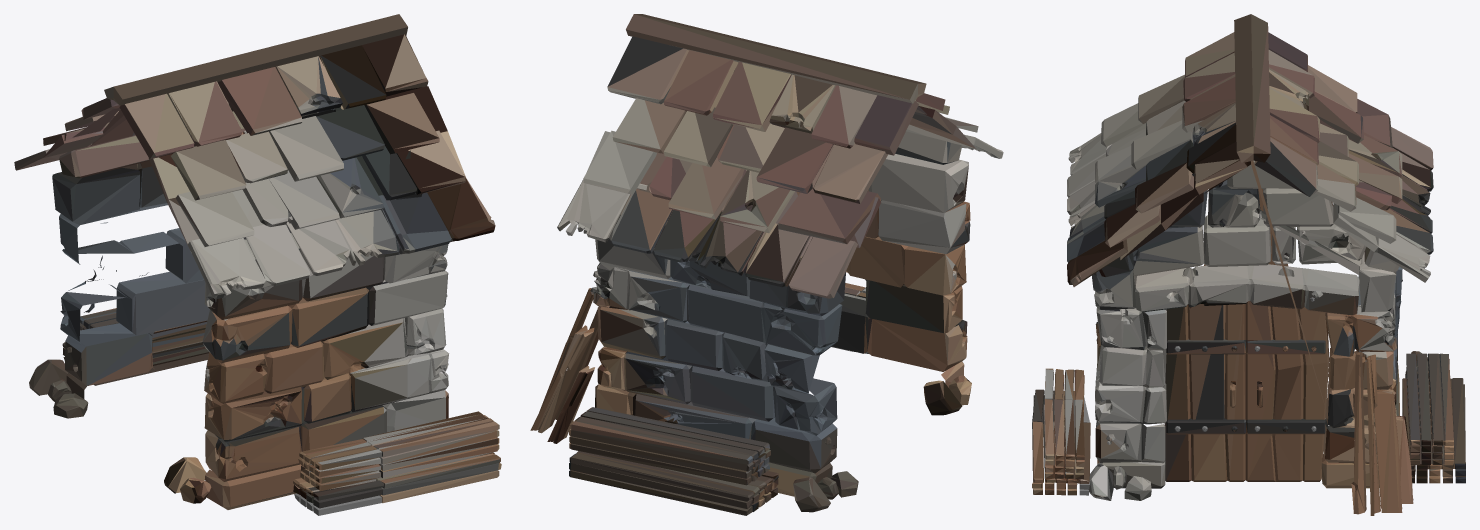
File: Storehouse.glb
3 views of the same model, side by side, from view 1: azimuth 30°, elevation 25°; view 2: azimuth 150°, elevation 25°; view 3: azimuth 270°, elevation 25° (orthographic). The views are drawn at different scales.
Visible parts, largest first — view 1: world; view 2: world; view 3: world.
Part boxes in pixels (<box>): world: <box>14,14,501,515</box>; world: <box>530,14,1003,515</box>; world: <box>1032,14,1465,515</box>.
Size of the model in its own units: 0.8301 by 0.916 by 0.998.
